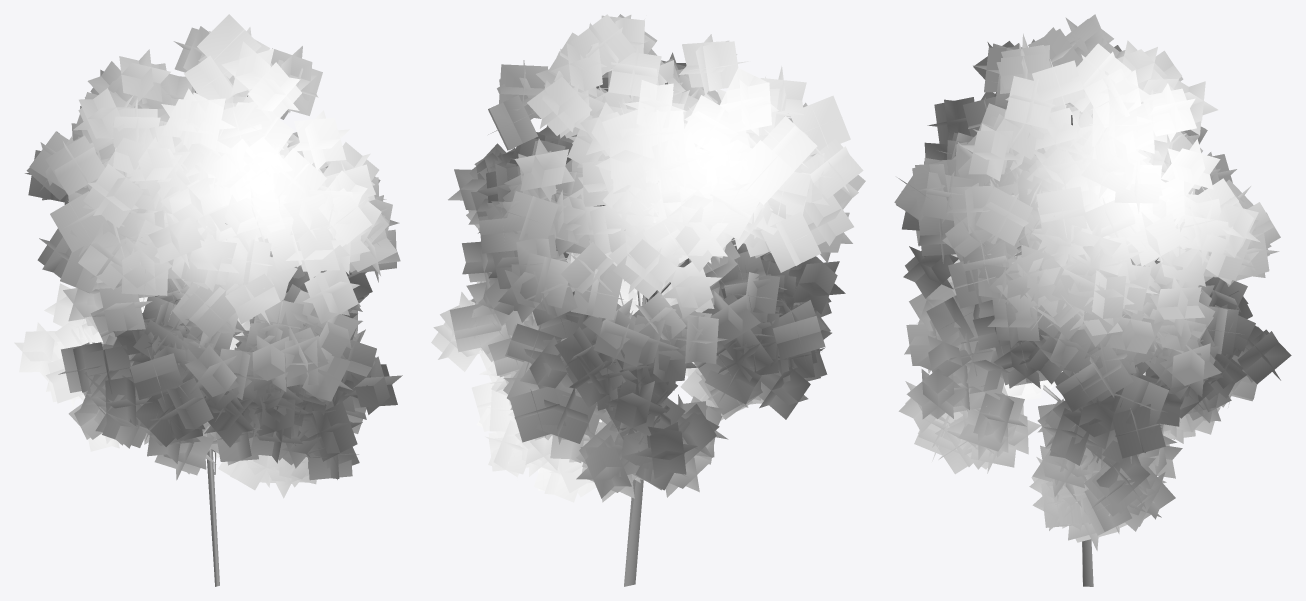
File: Tree1_LOD1.fbx
3 views of the same model, side by side, from view 1: azimuth 30°, elevation 25°; view 2: azimuth 150°, elevation 25°; view 3: azimuth 270°, elevation 25° (orthographic). The views are drawn at different scales.
Visible parts, largest first — view 1: tree.001; view 2: tree.001; view 3: tree.001.
Boxes of the visible parts, x1,y1,x2,y2 form: tree.001: [14, 14, 402, 586]; tree.001: [431, 14, 865, 586]; tree.001: [894, 14, 1291, 586].
Size of the model in its own units: 5.81 by 5.64 by 8.56.
